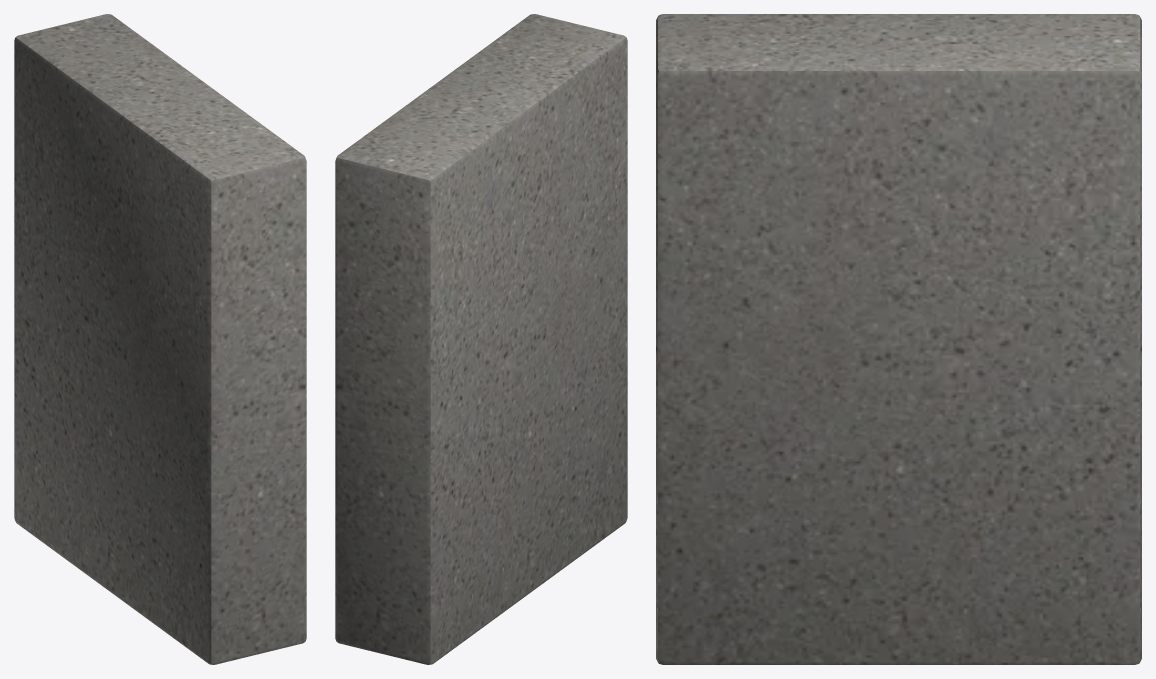
Rendered from ALV-BCO-005.glb.
3 renders of one model, left to right at view 1: azimuth 30°, elevation 25°; view 2: azimuth 150°, elevation 25°; view 3: azimuth 270°, elevation 25°, orthographic. The views are drawn at different scales.
Visible parts, largest first — view 1: ALV-BCO-005_peca; view 2: ALV-BCO-005_peca; view 3: ALV-BCO-005_peca.
Part boxes in pixels (<box>): ALV-BCO-005_peca: <box>14,14,306,664</box>; ALV-BCO-005_peca: <box>335,14,627,664</box>; ALV-BCO-005_peca: <box>656,14,1141,664</box>.
Bounding box in the file's own units: 0.04 × 0.19 × 0.14.
Materials: 1 (1 with a texture image).
